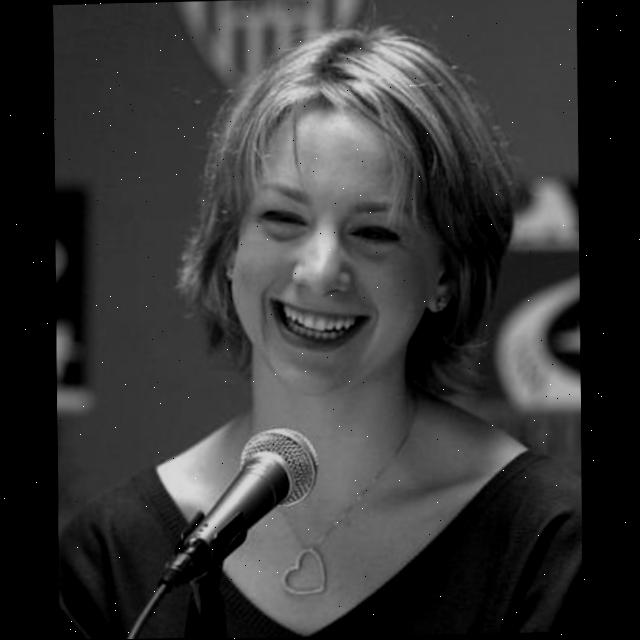face: (219, 75, 474, 404)
